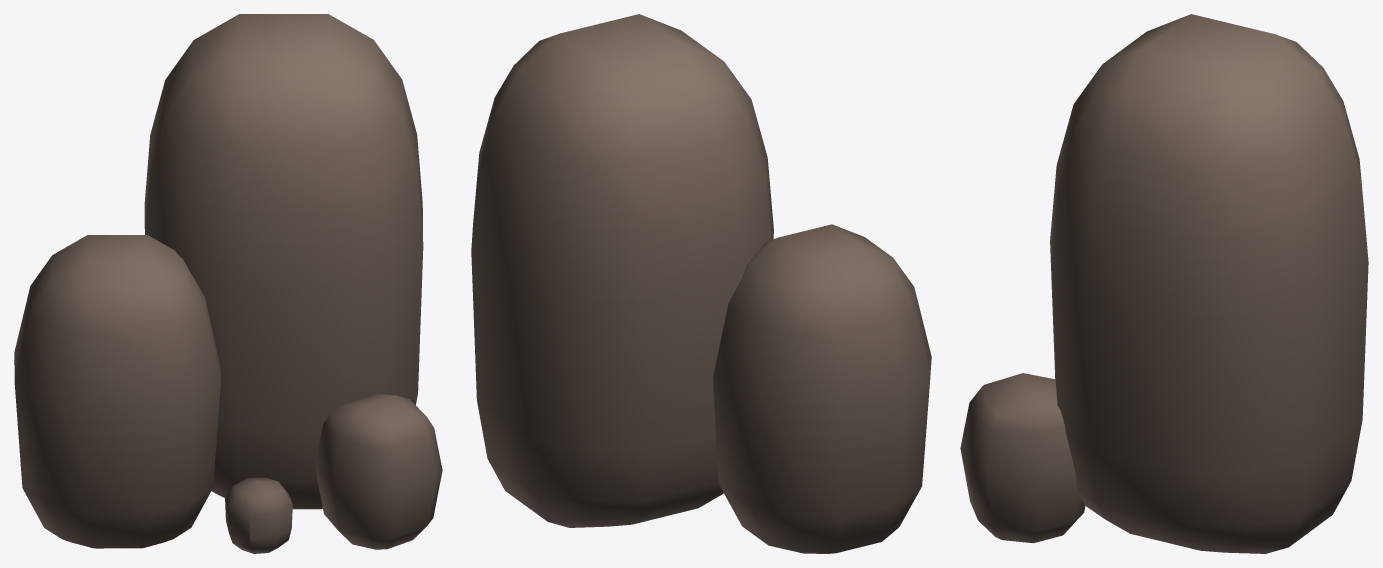
Rendered from Rock_6_E_Color6.fbx.
3 views of the same model, side by side, from view 1: azimuth 30°, elevation 25°; view 2: azimuth 150°, elevation 25°; view 3: azimuth 270°, elevation 25° (orthographic). The views are drawn at different scales.
Visible parts, largest first — view 1: Rock_6_E_Color6; view 2: Rock_6_E_Color6; view 3: Rock_6_E_Color6.
Part boxes in pixels (box(x1,y1,x2,y2)): Rock_6_E_Color6: box(14, 14, 442, 553); Rock_6_E_Color6: box(471, 14, 931, 553); Rock_6_E_Color6: box(960, 14, 1368, 553).
Size of the model in its own units: 1.94 by 2.08 by 1.58.
